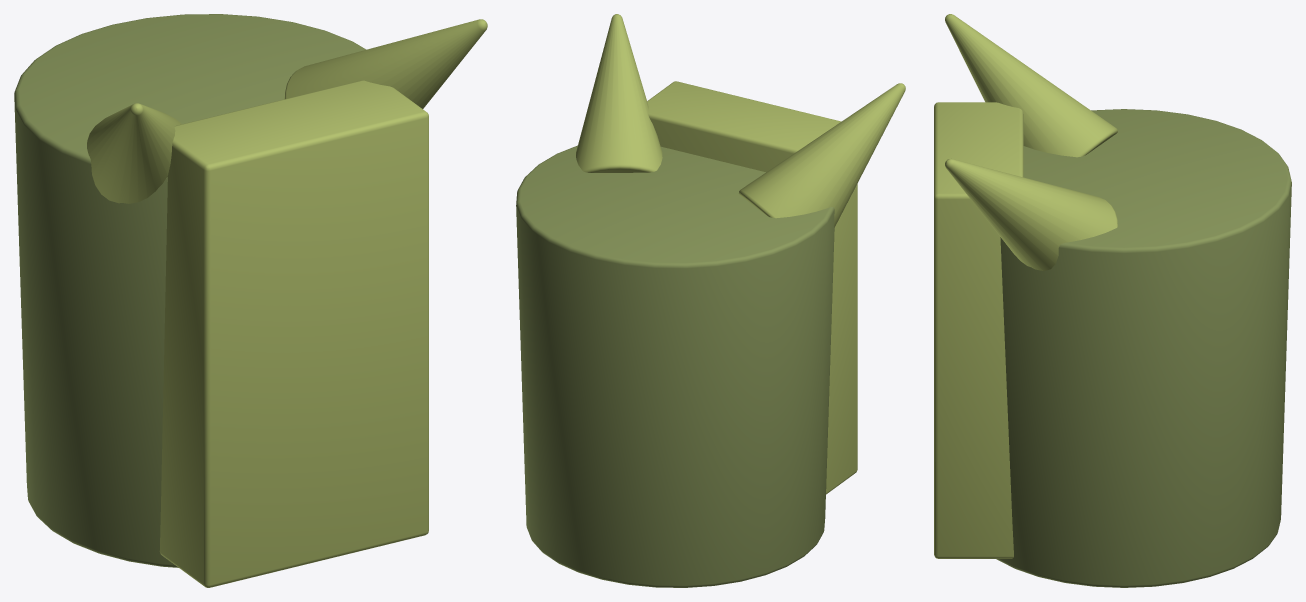
The model's file is riven_greave.glb.
3 views of the same model, side by side, from view 1: azimuth 30°, elevation 25°; view 2: azimuth 150°, elevation 25°; view 3: azimuth 270°, elevation 25° (orthographic). The views are drawn at different scales.
Parts seen in each view (by area): view 1: riven_greave; view 2: riven_greave; view 3: riven_greave.
Part boxes in pixels (box(x1,y1,x2,y2)): riven_greave: box(14, 14, 487, 587); riven_greave: box(516, 14, 905, 587); riven_greave: box(934, 14, 1291, 587).
Bounding box in the file's own units: 0.1582 × 0.2152 × 0.1599.
